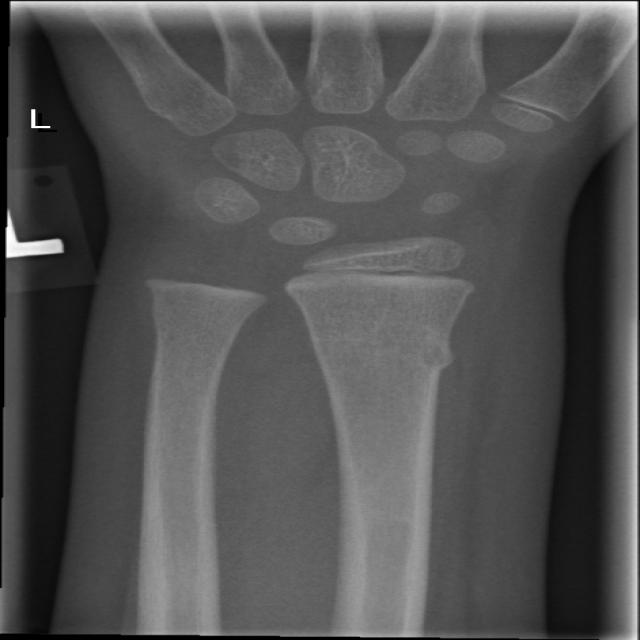radius fracture: (283, 308, 514, 450)
